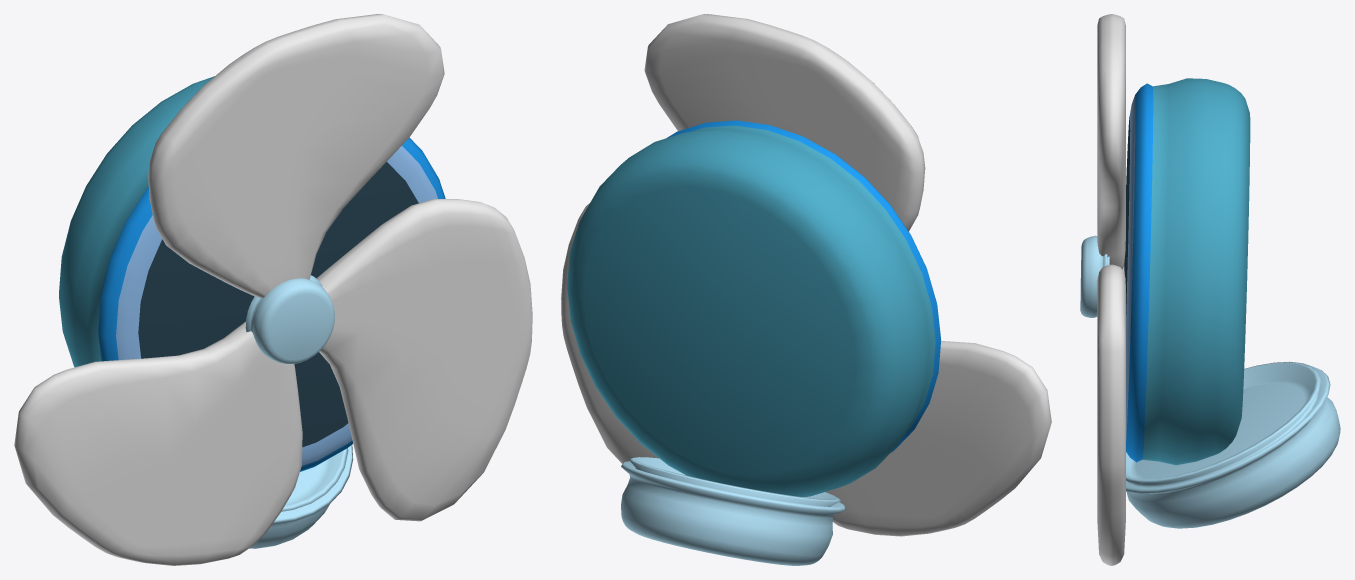
Rendered from Fan_V2.fbx.
The picture shows the model from 3 angles, left to right: view 1: azimuth 30°, elevation 25°; view 2: azimuth 150°, elevation 25°; view 3: azimuth 270°, elevation 25°; orthographic projection. The views are drawn at different scales.
Parts seen in each view (by area): view 1: Plane.005, MDL_Body, MDL_Wing, MDL_Stand; view 2: MDL_Body, Plane.005, MDL_Stand; view 3: MDL_Body, MDL_Stand, Plane.005, MDL_Wing.
Boxes of the visible parts, box(x1,y1,x2,y2) form: Plane.005: box(14, 14, 532, 565); MDL_Body: box(59, 76, 445, 471); MDL_Wing: box(245, 275, 334, 363); MDL_Stand: box(249, 444, 353, 548); MDL_Body: box(567, 120, 941, 496); Plane.005: box(561, 14, 1051, 536); MDL_Stand: box(621, 457, 845, 565); MDL_Body: box(1124, 78, 1250, 465); MDL_Stand: box(1126, 361, 1340, 528); Plane.005: box(1097, 14, 1125, 565); MDL_Wing: box(1080, 235, 1109, 317).
Size of the model in its own units: 145 by 143 by 68.73.
